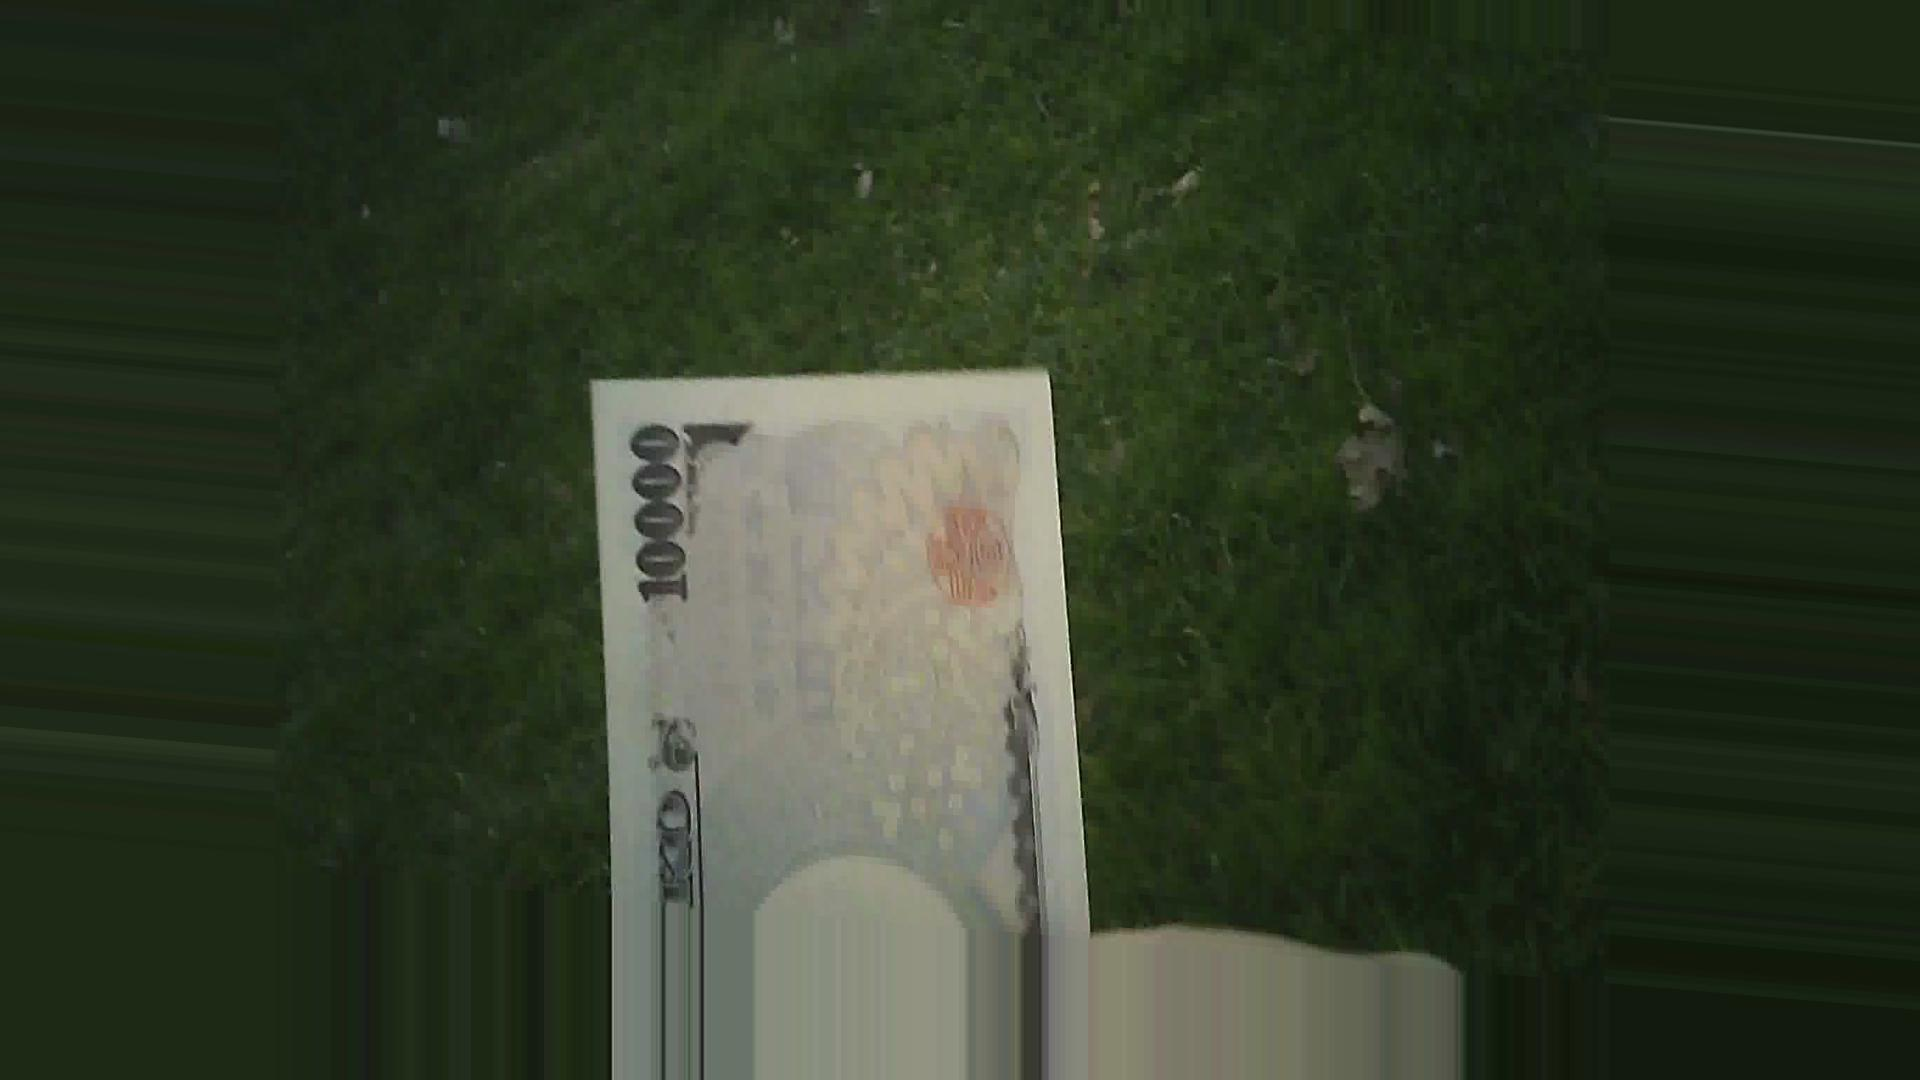10,000 Yen: (543, 357, 1120, 996)
